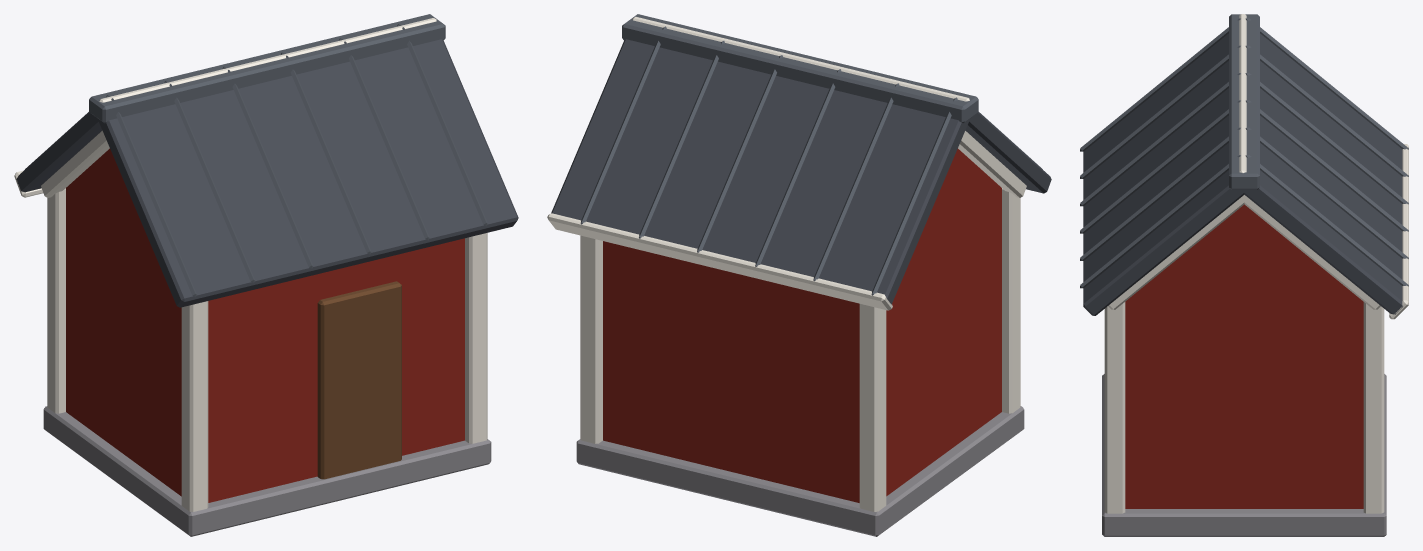
File: uthus.glb
The picture shows the model from 3 angles, left to right: view 1: azimuth 30°, elevation 25°; view 2: azimuth 150°, elevation 25°; view 3: azimuth 270°, elevation 25°; orthographic projection. The views are drawn at different scales.
Parts seen in each view (by area): view 1: uthus; view 2: uthus; view 3: uthus.
Part boxes in pixels (x1,y1,x2,y2): uthus: (14, 14, 518, 536); uthus: (547, 14, 1051, 536); uthus: (1080, 14, 1408, 536).
Size of the model in its own units: 2.95 by 3.2 by 2.54.
